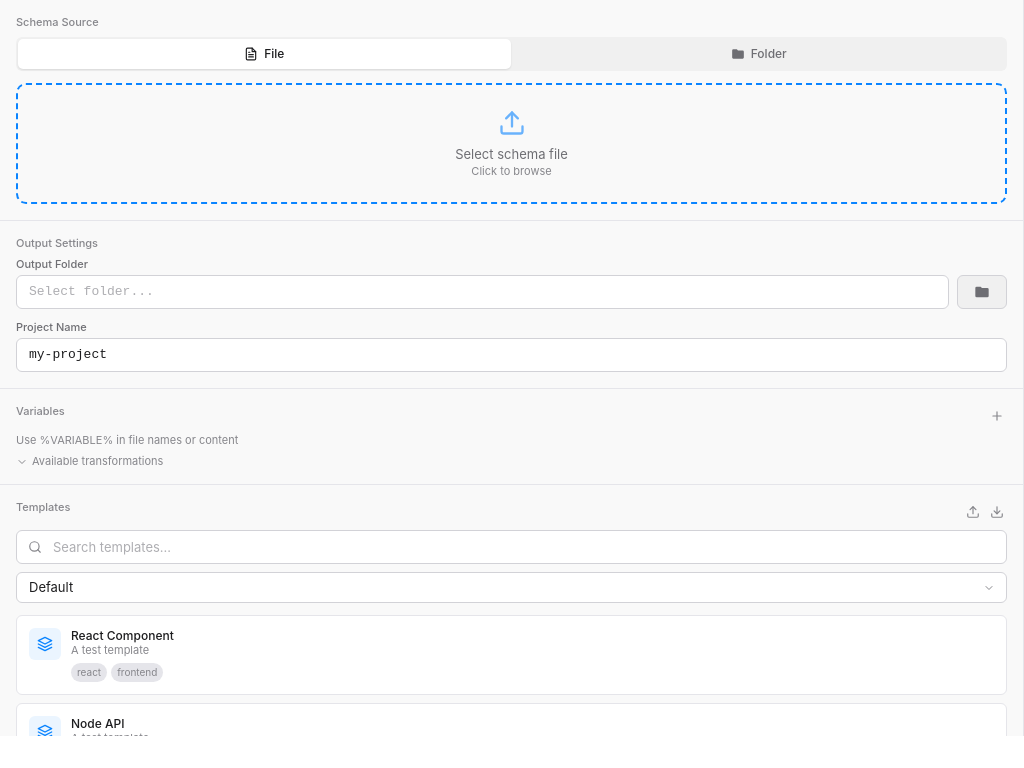
Test: LeftPanel › Templates Section › search and filtering › filters templates by search query
expect the text "React Component" is shown: met, box [71,628,174,644]
In the field with placeholder "Search templates...": (512,547) [16,530,1007,564], type "Node"
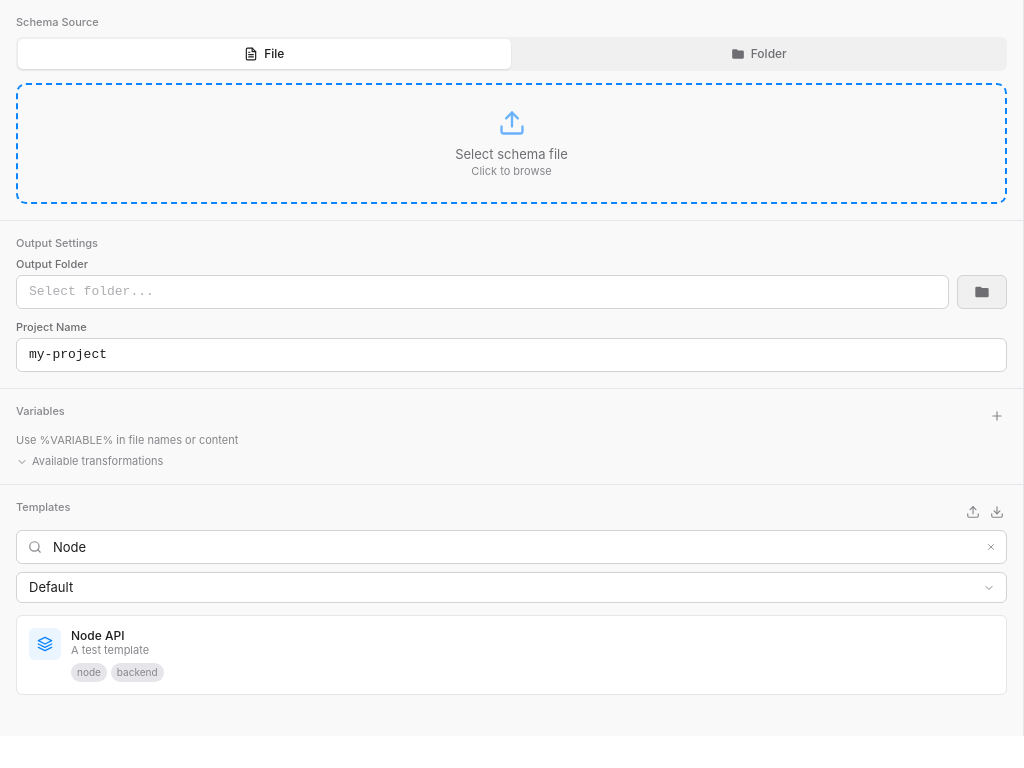
expect the text "Node API" is shown: met, box [71,628,124,644]
expect the option "React Component" is gone: met
